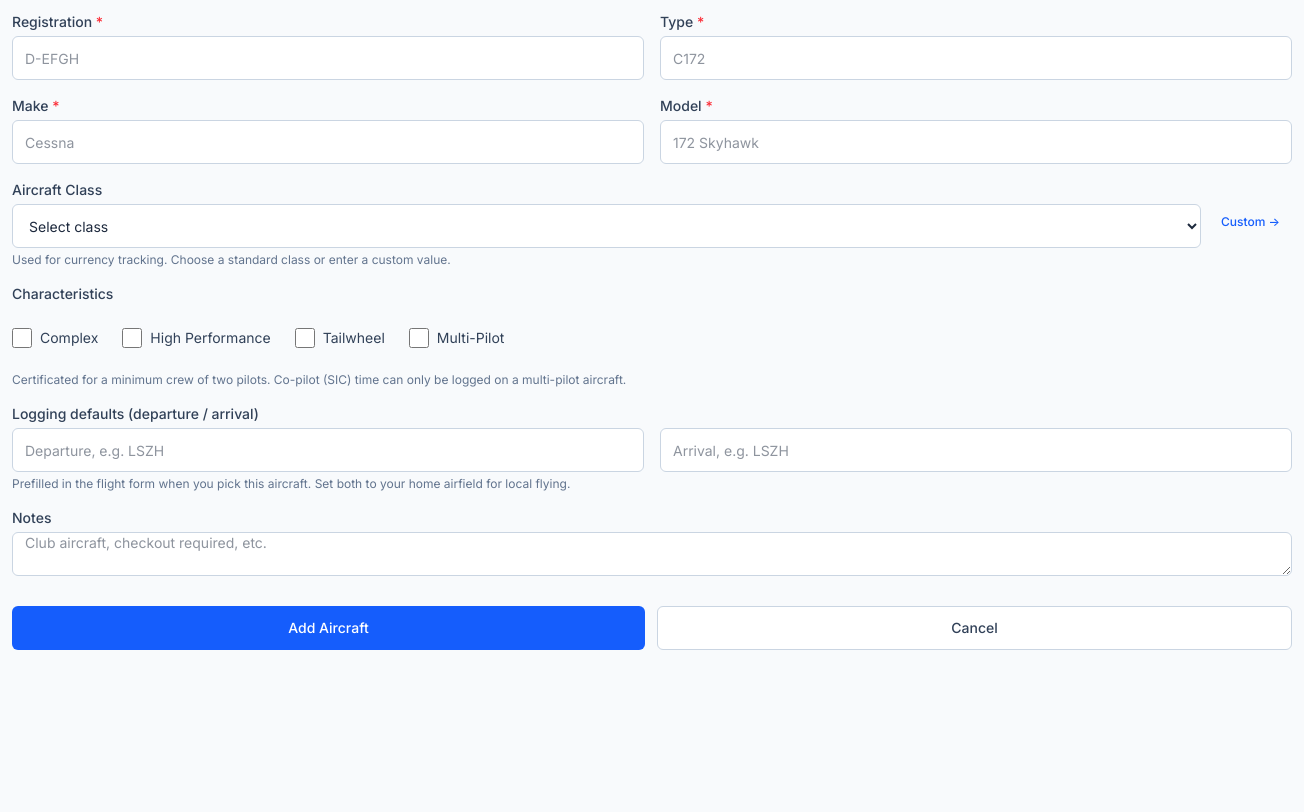
AircraftForm › asks for the ultralight kind only for an ULTRALIGHT class
The width and height of the screenshot is (1304, 812).
Check: the field labelled "ultralight kind" is not shown
Select "Ultralight — Microlight" in the dropdown labelled "Aircraft Class" at (606, 226), box [12,204,1201,248]
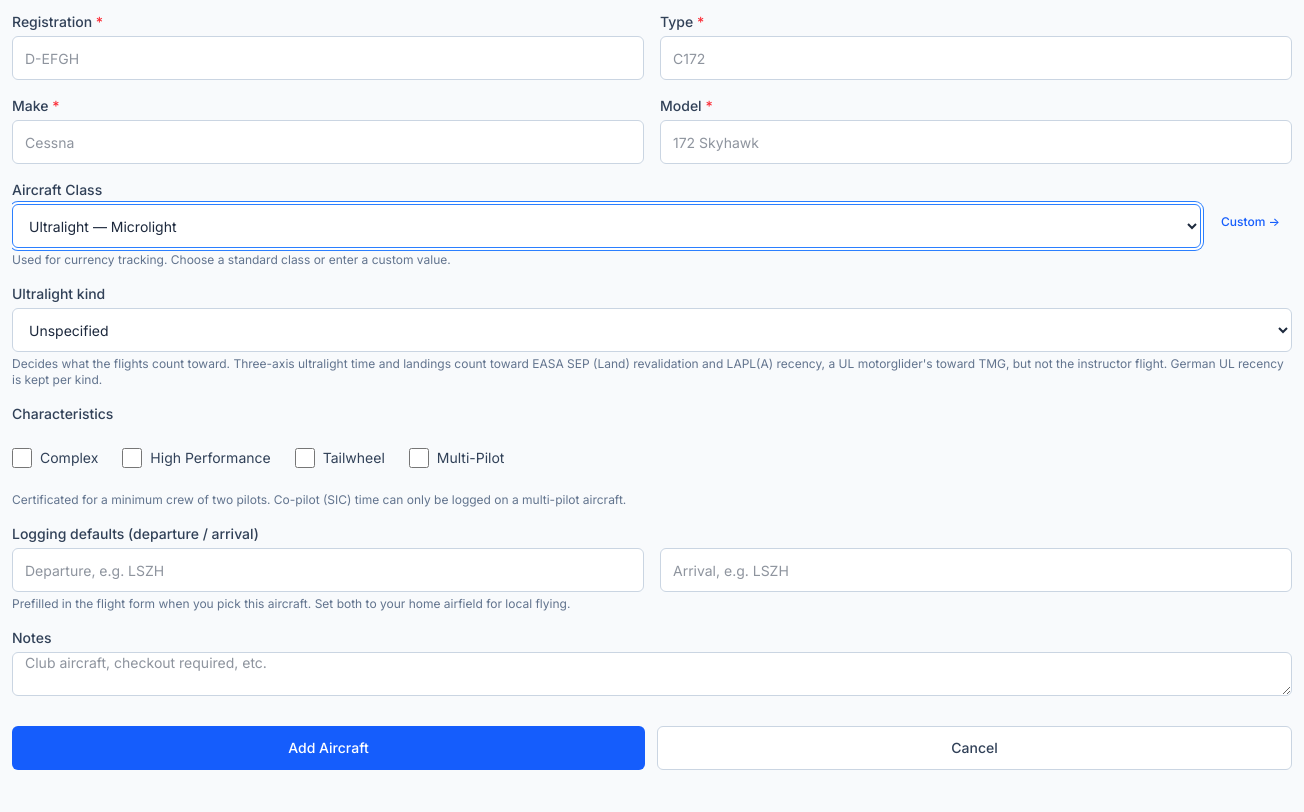
Select "Three-axis ultralight" in the dropdown labelled "Ultralight kind" at (652, 330), box [12,308,1292,352]
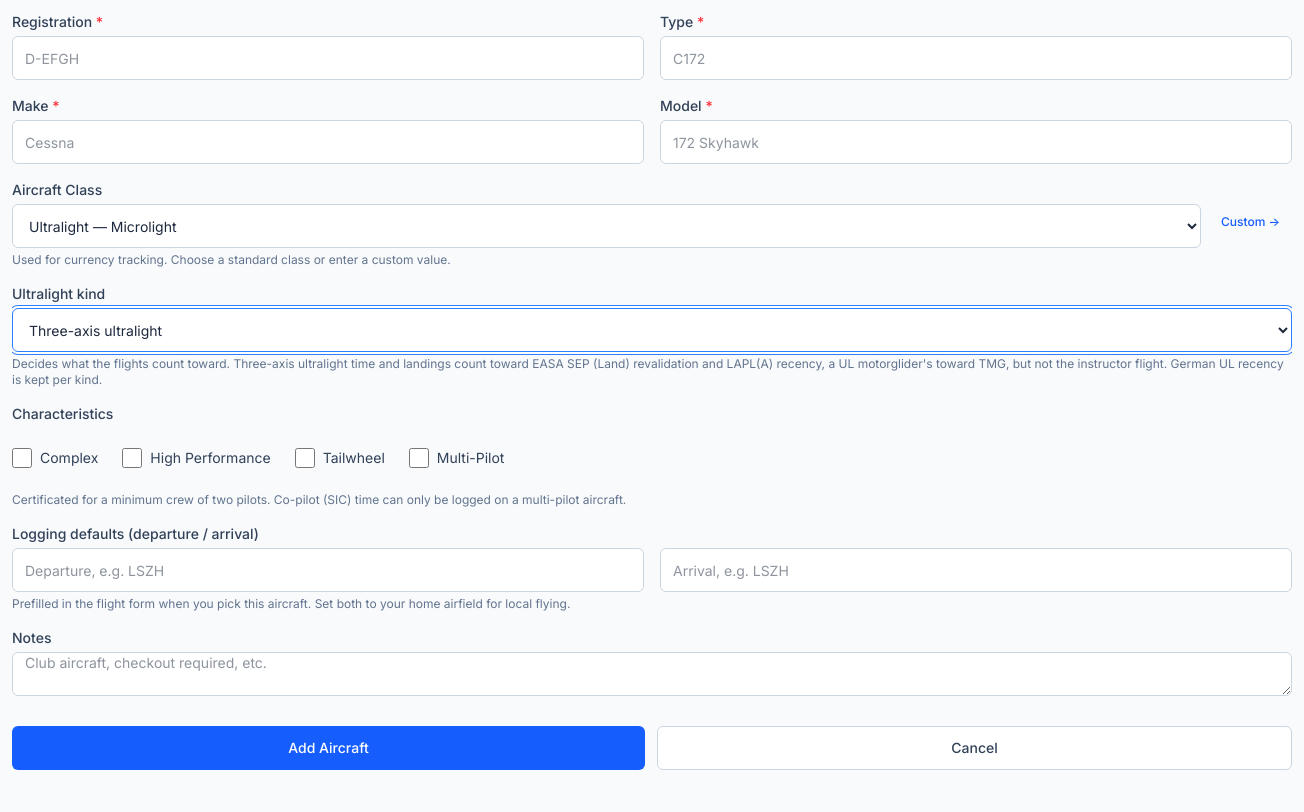
Select "SEP (Land) — Single Engine Piston" in the dropdown labelled "Aircraft Class" at (606, 226), box [12,204,1201,248]
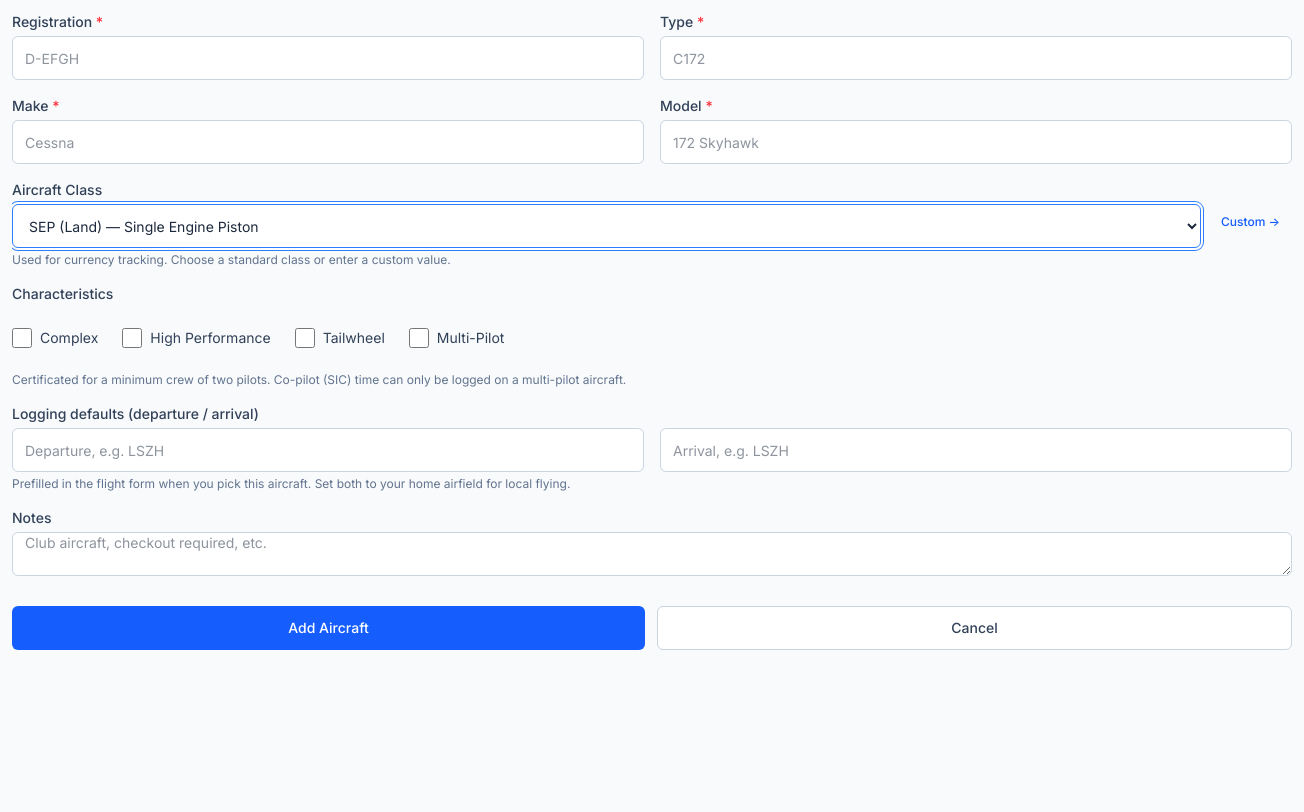
Check: the label labelled "Ultralight kind" is gone
